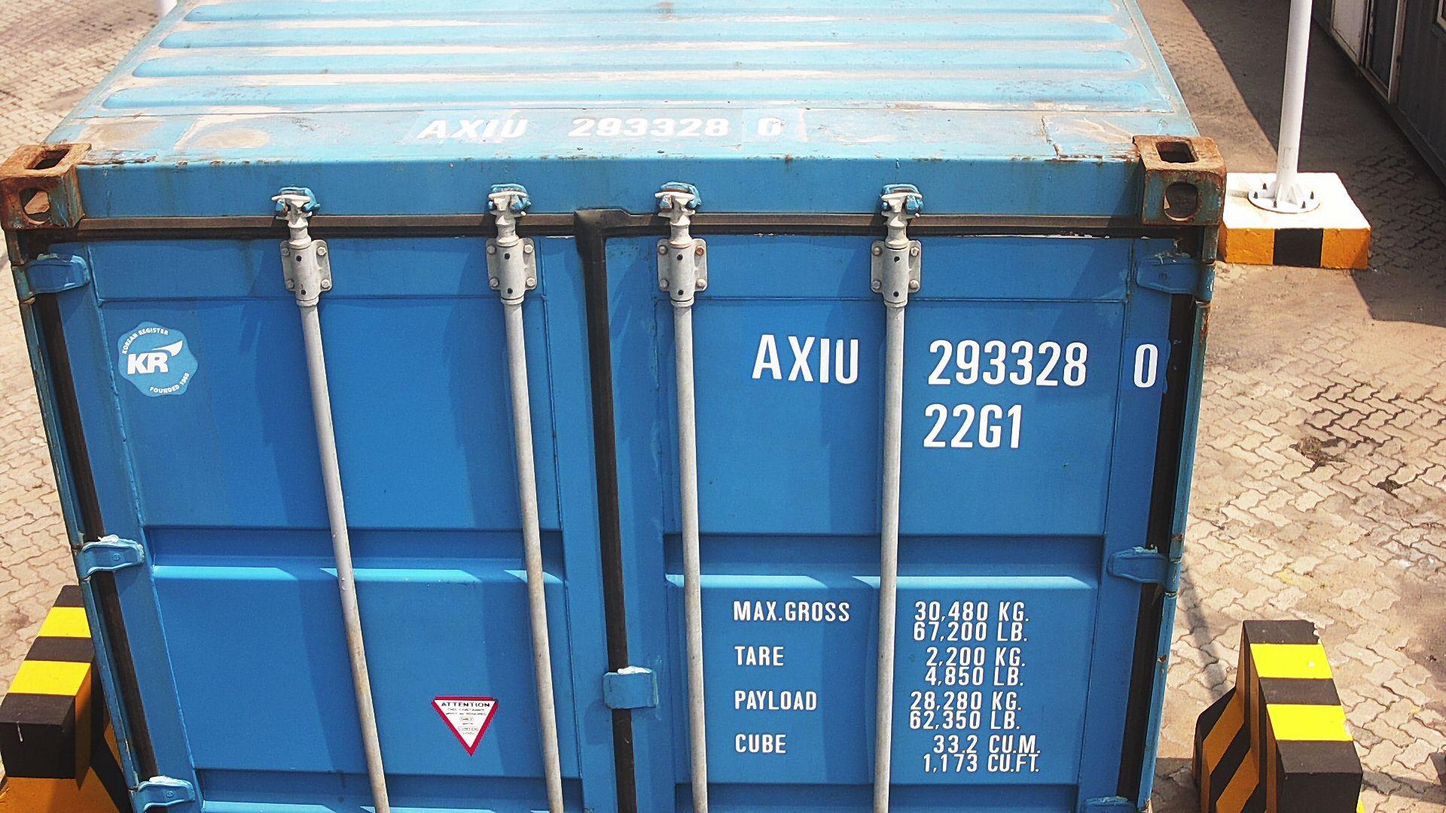container-numbers: (746, 333, 1168, 393), (406, 110, 814, 146), (919, 400, 1030, 453)
